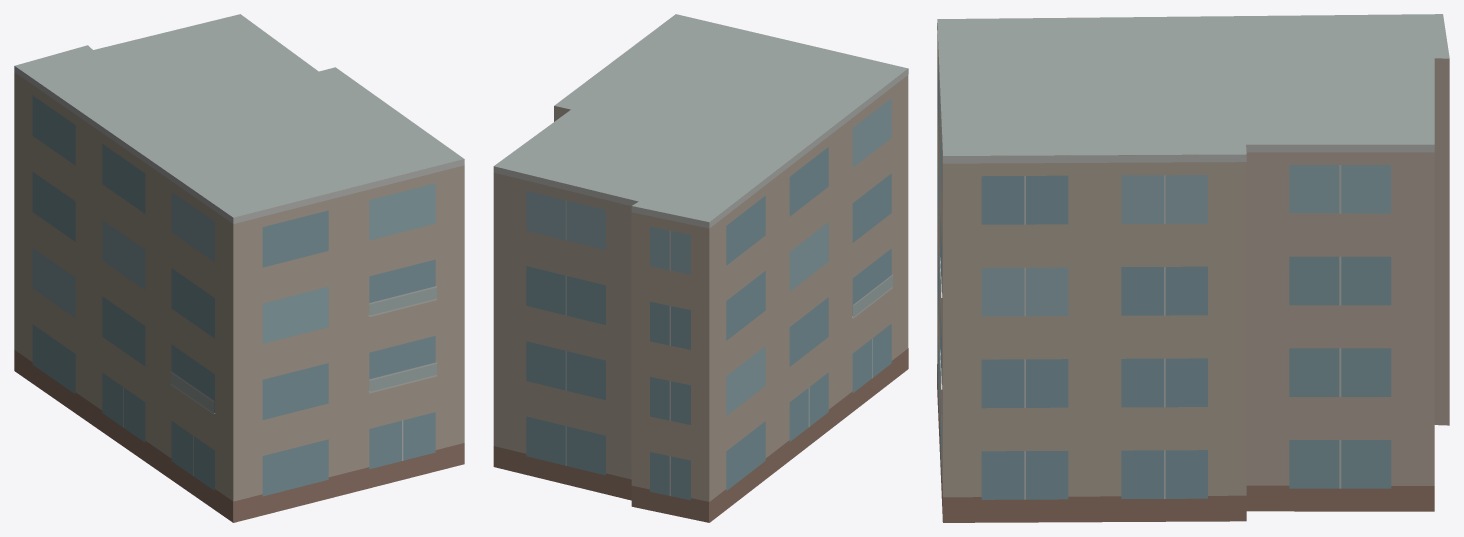
File: survey-upis-32764199.glb
3 views of the same model, side by side, from view 1: azimuth 30°, elevation 25°; view 2: azimuth 150°, elevation 25°; view 3: azimuth 270°, elevation 25° (orthographic). The views are drawn at different scales.
Visible parts, largest first — view 1: survey-upis-32764199.tmp; view 2: survey-upis-32764199.tmp; view 3: survey-upis-32764199.tmp.
Part boxes in pixels (x1,y1,x2,y2): survey-upis-32764199.tmp: [14, 14, 464, 522]; survey-upis-32764199.tmp: [493, 14, 908, 522]; survey-upis-32764199.tmp: [937, 14, 1449, 522].
Size of the model in its own units: 9.72 by 11.7 by 14.83.
